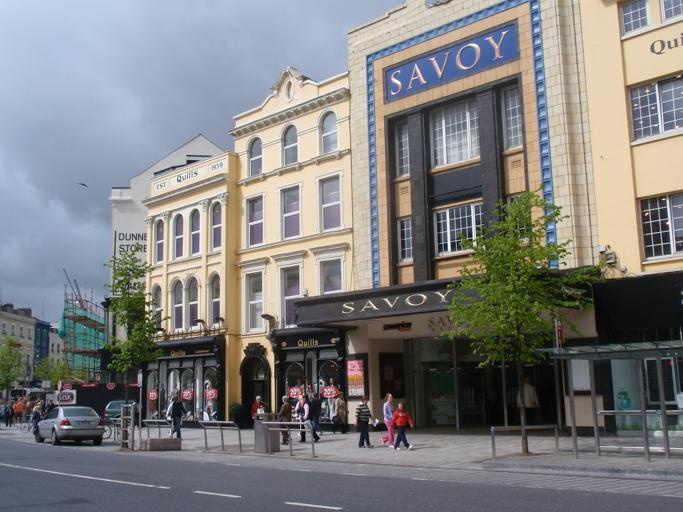non-vehicle: (20, 412, 33, 434), (102, 418, 112, 439)
